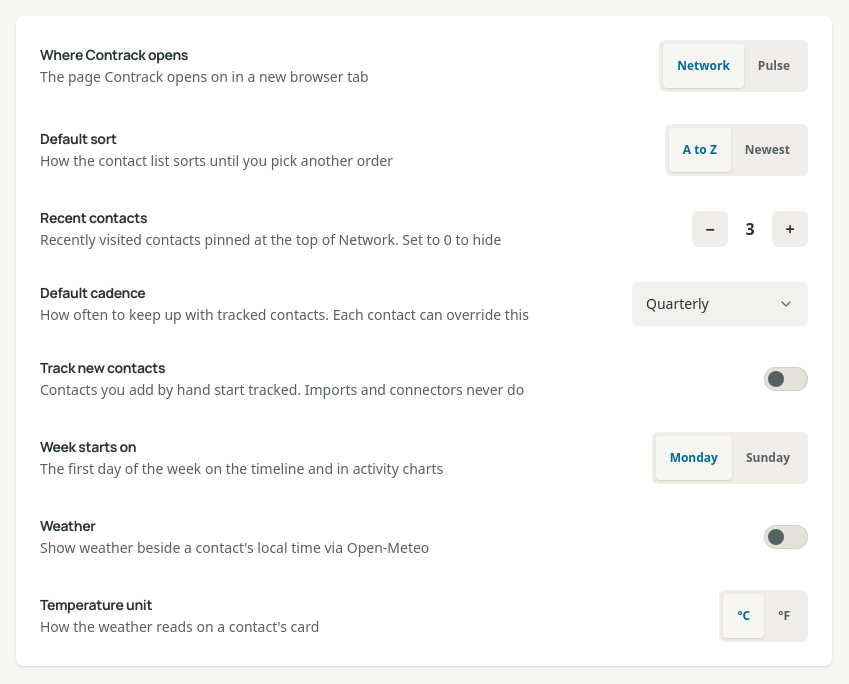
Test case: the Default cadence select › offers the four cadences, one word each
The width and height of the screenshot is (849, 684).
Click the dropdown named "Default cadence". click: (720, 304)
box: [632,282,808,326]
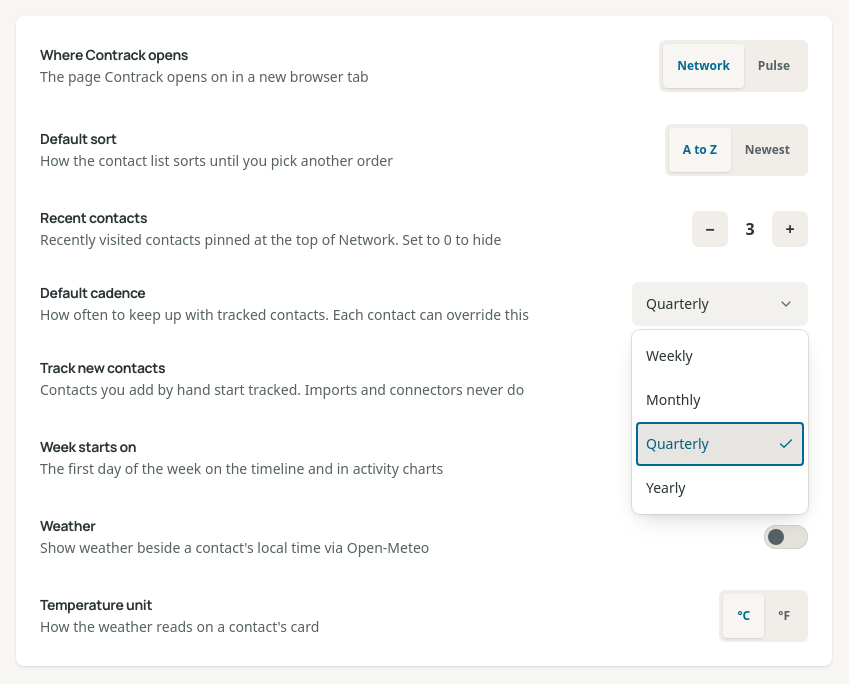
Check: the options read "Weekly", "Monthly", "Quarterly", "Yearly", in this order, box [636,334,804,378]; [636,378,804,422]; [636,422,804,466]; [636,466,804,510]
